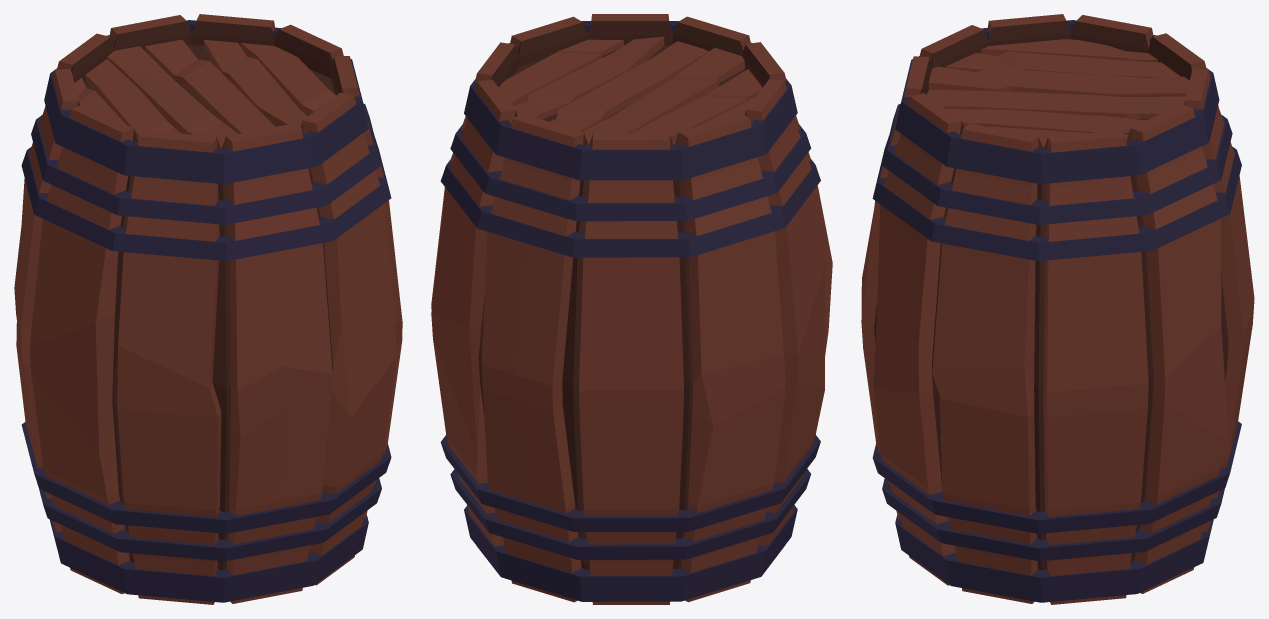
The model's file is Barrel.glb.
3 views of the same model, side by side, from view 1: azimuth 30°, elevation 25°; view 2: azimuth 150°, elevation 25°; view 3: azimuth 270°, elevation 25° (orthographic).
Parts seen in each view (by area): view 1: Barrel; view 2: Barrel; view 3: Barrel.
Boxes of the visible parts, x1=… form: Barrel: x1=14, y1=14, x2=402, y2=604; Barrel: x1=431, y1=14, x2=832, y2=604; Barrel: x1=861, y1=14, x2=1254, y2=604.
Size of the model in its own units: 104 by 135 by 103.
